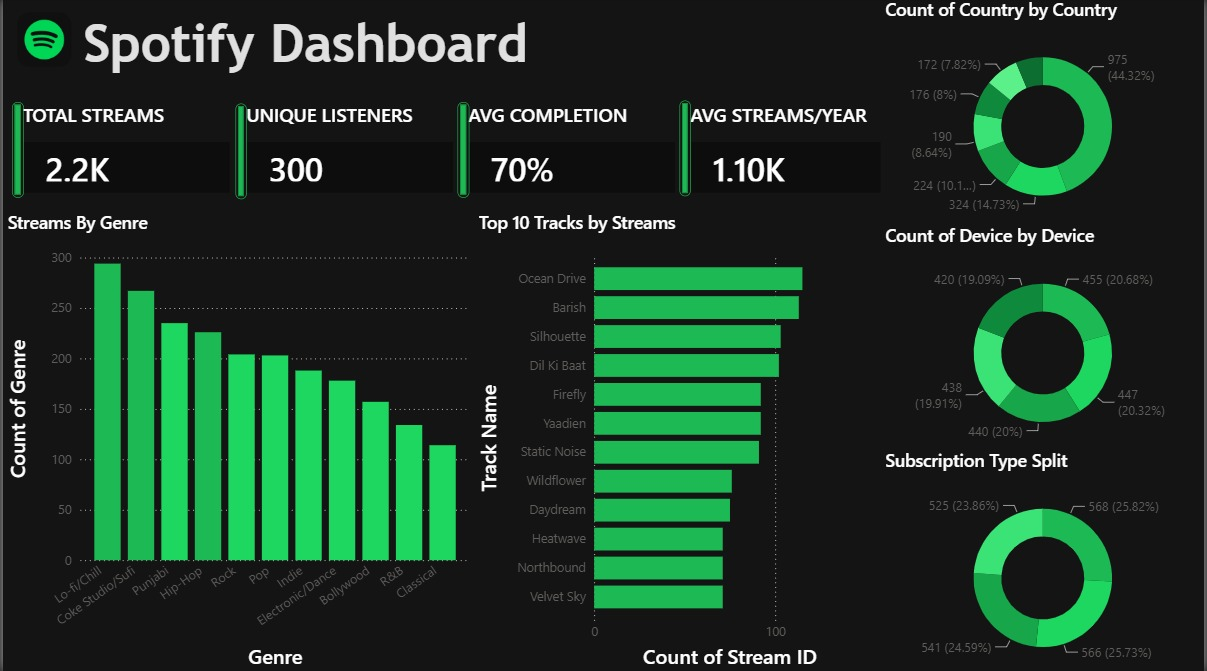

The dashboard page shown, as its layout file describes it:
{"tool":"powerbi","page":{"name":"Page 1","canvas":[1280,720],"ordinal":0},"visuals":[{"type":"cardVisual","title":"TOTAL STREAMS","fields":{"Data":["CountNonNull(Streaming History.Stream Date)"]},"box":[16,111.8,230.1,102.3],"z":0},{"type":"cardVisual","title":"AVG COMPLETION","fields":{"Data":["Avg(Streaming History.Completion Rate)"]},"box":[490.5,111.8,230,102],"z":1000},{"type":"cardVisual","title":"UNIQUE LISTENERS","fields":{"Data":["Count(Streaming History.User ID)"]},"box":[254,111.8,230,102],"z":2000},{"type":"columnChart","title":"Streams By Genre","fields":{"Category":["Streaming History.Genre"],"Y":["CountNonNull(Streaming History.Genre)"]},"box":[0,226.9,501.7,493.7],"z":3000},{"type":"donutChart","title":"Subscription Type Split","fields":{"Category":["Streaming History.Subscription Type"],"Y":["CountNonNull(Streaming History.Stream ID)"]},"box":[934.6,480.9,345.1,240],"z":4000},{"type":"cardVisual","title":"AVG STREAMS/YEAR","fields":{"Data":["Streaming History.Avg Streams Per Year"]},"box":[726.9,111.8,230,102],"z":5000},{"type":"textbox","box":[0,11.2,1279.7,81.5],"z":6000},{"type":"image","box":[0,0,87.9,91.1],"z":7000},{"type":"barChart","title":"Top 10 Tracks by Streams","fields":{"Category":["Streaming History.Track Name"],"Y":["CountNonNull(Streaming History.Stream ID)"]},"box":[501.7,226.9,433,493.7],"z":8000},{"type":"shape","box":[9.6,111.8,12.8,102],"z":9000},{"type":"shape","box":[247.6,113.4,12,102],"z":10000},{"type":"shape","box":[484.1,111.8,12.8,102],"z":11000},{"type":"shape","box":[720.5,110.2,12,102],"z":12000},{"type":"donutChart","fields":{"Y":["CountNonNull(Streaming History.Country)"],"Category":["Streaming History.Country"]},"box":[934.6,0,345,240],"z":13000},{"type":"donutChart","fields":{"Y":["CountNonNull(Streaming History.Device)"],"Category":["Streaming History.Device"]},"box":[934.6,241.2,345,240],"z":14000}]}

Visuals, with their boxes in screenshot pixels (x1, y1, x2, y2), scaled from the page's 1280x720 canvas onto the 1207x671 screenshot:
"TOTAL STREAMS" cardVisual: (15,104,232,200)
"AVG COMPLETION" cardVisual: (463,104,679,199)
"UNIQUE LISTENERS" cardVisual: (240,104,456,199)
"Streams By Genre" columnChart: (0,211,473,670)
"Subscription Type Split" donutChart: (881,448,1206,670)
"AVG STREAMS/YEAR" cardVisual: (685,104,902,199)
textbox: (0,10,1206,86)
image: (0,0,83,85)
"Top 10 Tracks by Streams" barChart: (473,211,881,670)
shape: (9,104,21,199)
shape: (233,106,245,201)
shape: (456,104,469,199)
shape: (679,103,691,198)
donutChart - CountNonNull(Streaming History.Country) x Streaming History.Country: (881,0,1206,224)
donutChart - CountNonNull(Streaming History.Device) x Streaming History.Device: (881,225,1206,448)
